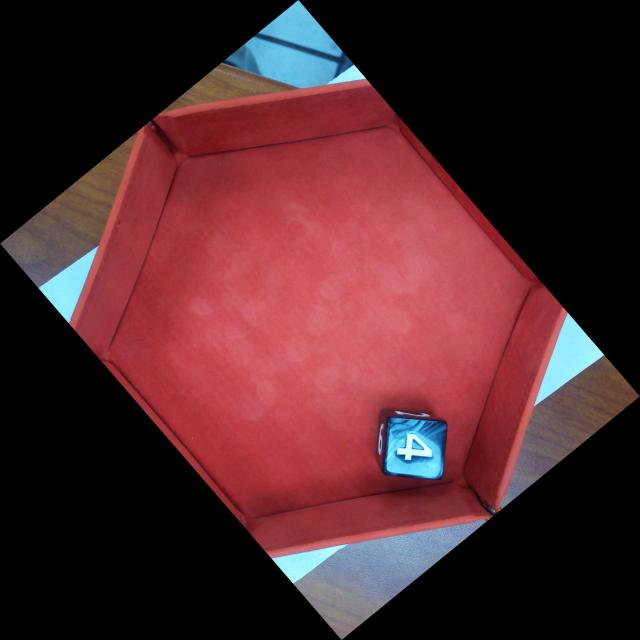dice: (382, 417, 448, 480)
